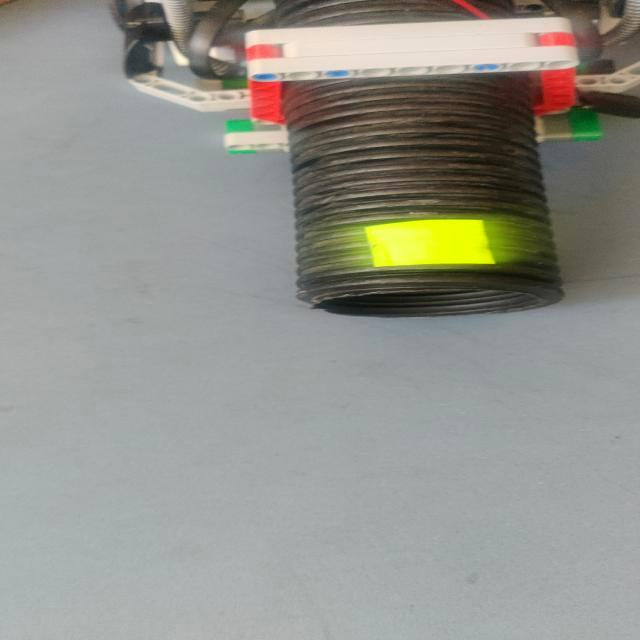robot-front: (290, 82, 562, 314)
